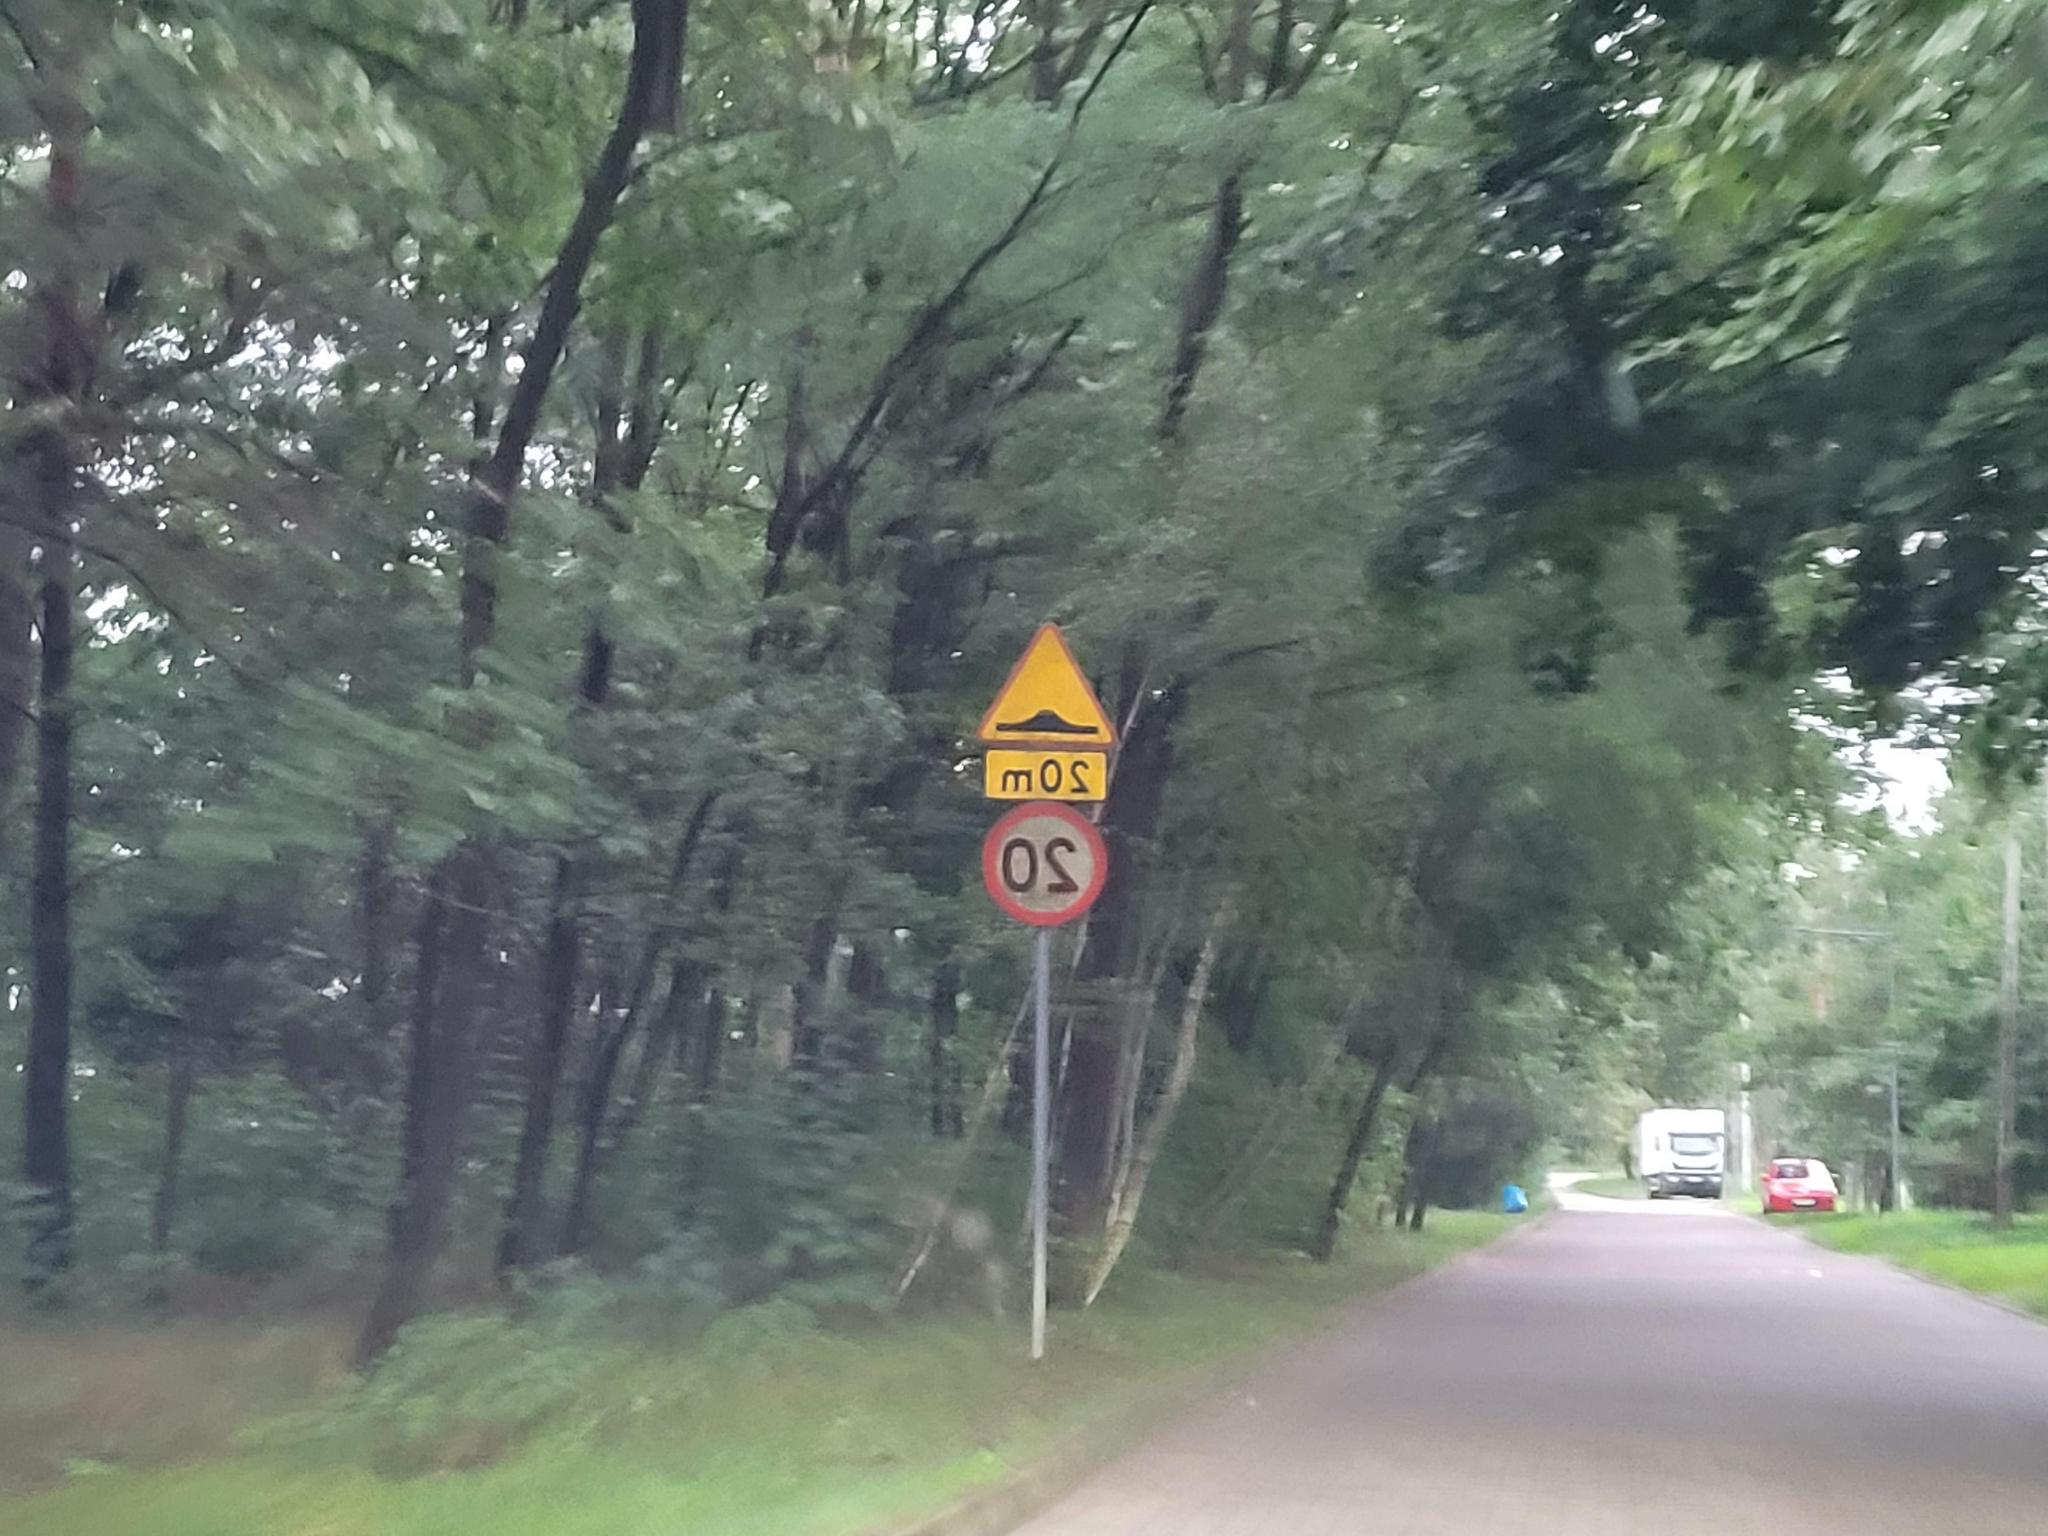other: (982, 747, 1110, 807)
prohibitory: (977, 802, 1111, 932)
warning: (972, 617, 1118, 751)
